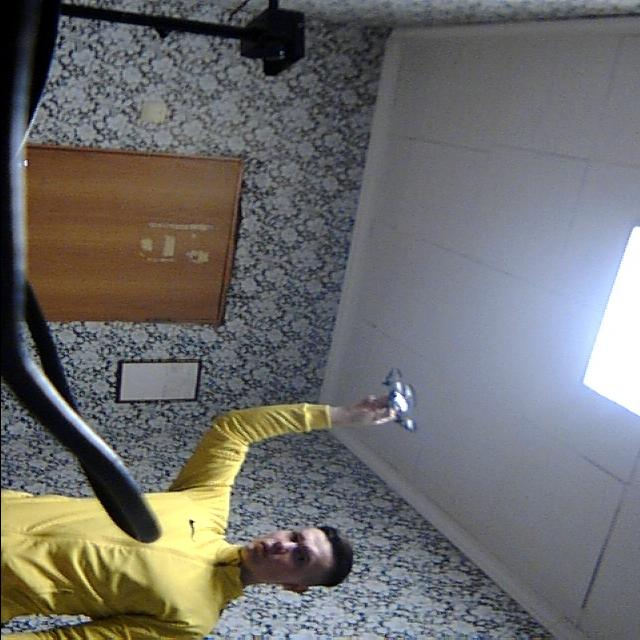drone: (372, 364, 428, 434)
